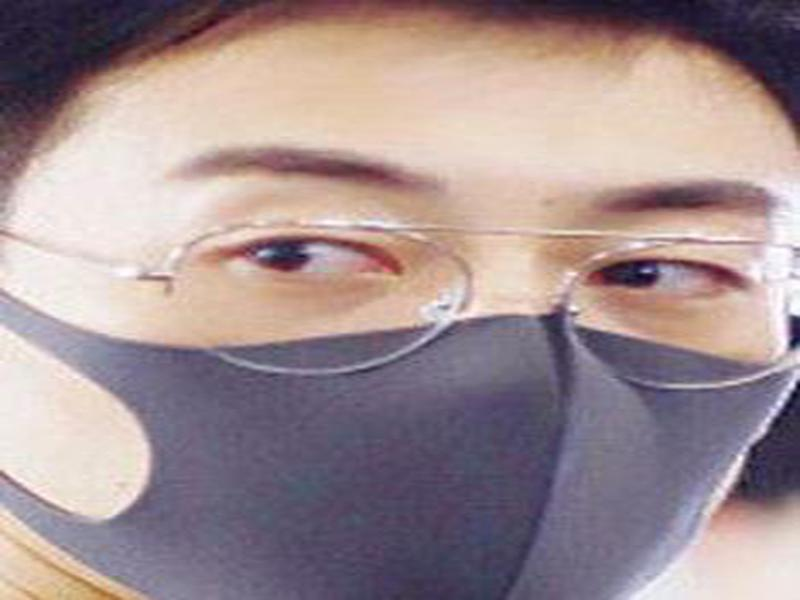with_mask: (1, 26, 795, 600)
